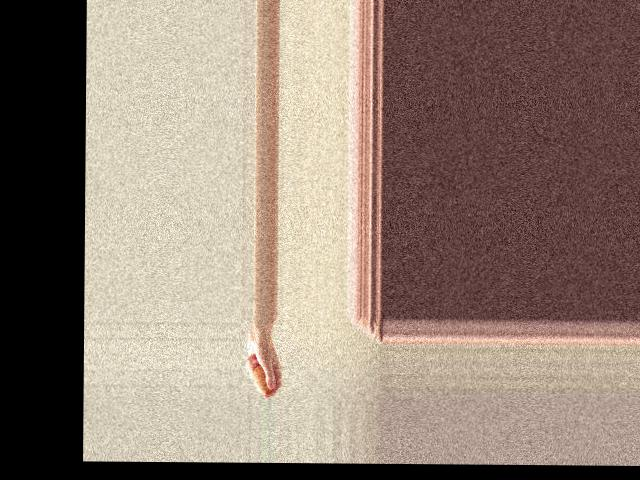egg: (251, 365, 273, 393)
